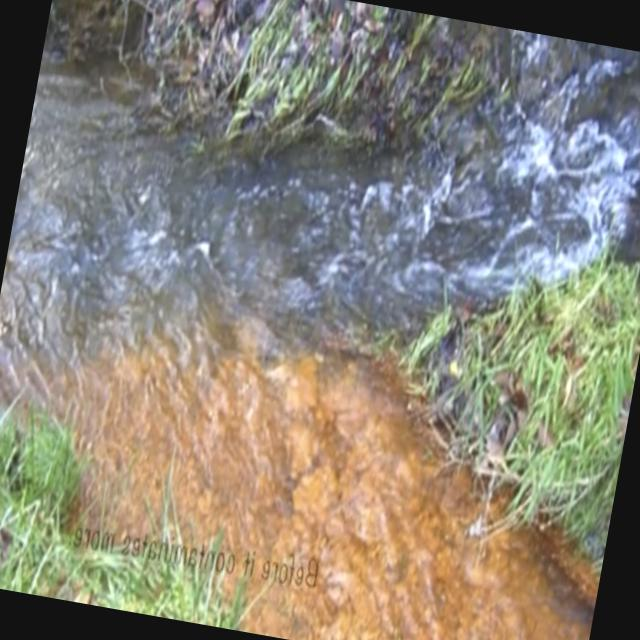yellow_boy: (49, 332, 593, 640)
